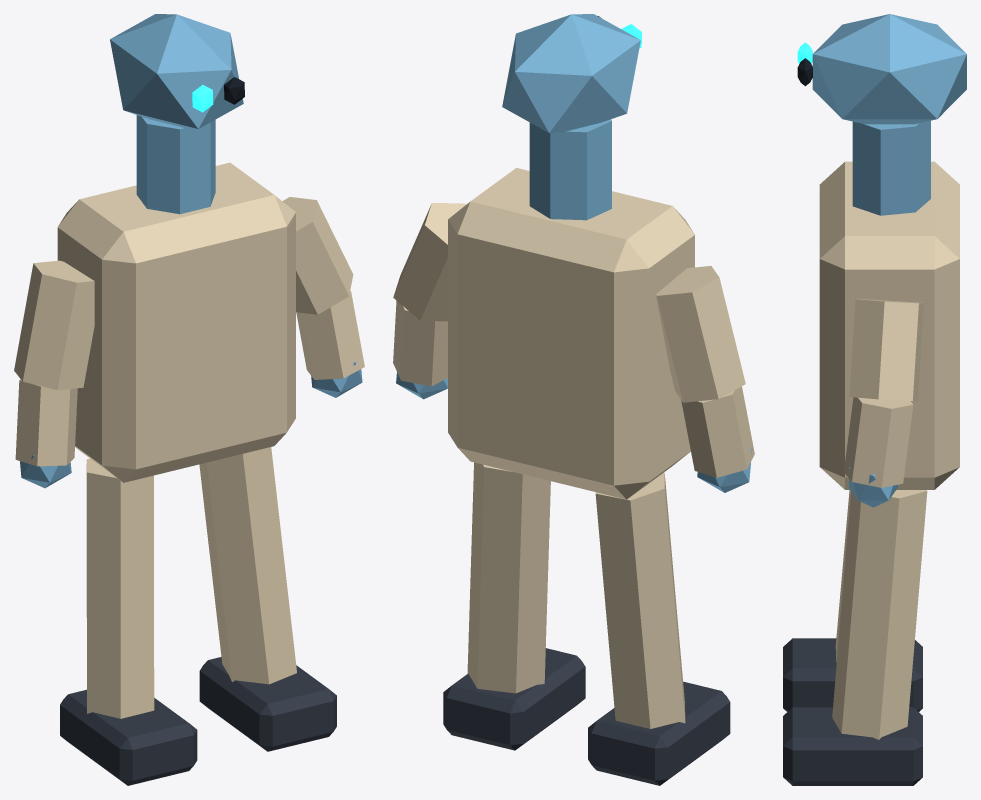
The model's file is npcs_027_seed11.glb.
3 renders of one model, left to right at view 1: azimuth 30°, elevation 25°; view 2: azimuth 150°, elevation 25°; view 3: azimuth 270°, elevation 25°, orthographic. The views are drawn at different scales.
Parts seen in each view (by area): view 1: npcs_027_seed11; view 2: npcs_027_seed11; view 3: npcs_027_seed11.
Boxes of the visible parts, bbox=[...] form: npcs_027_seed11: bbox=[14, 14, 364, 785]; npcs_027_seed11: bbox=[393, 14, 754, 785]; npcs_027_seed11: bbox=[783, 14, 966, 785].
Size of the model in its own units: 0.9762 by 1.95 by 0.4501.
